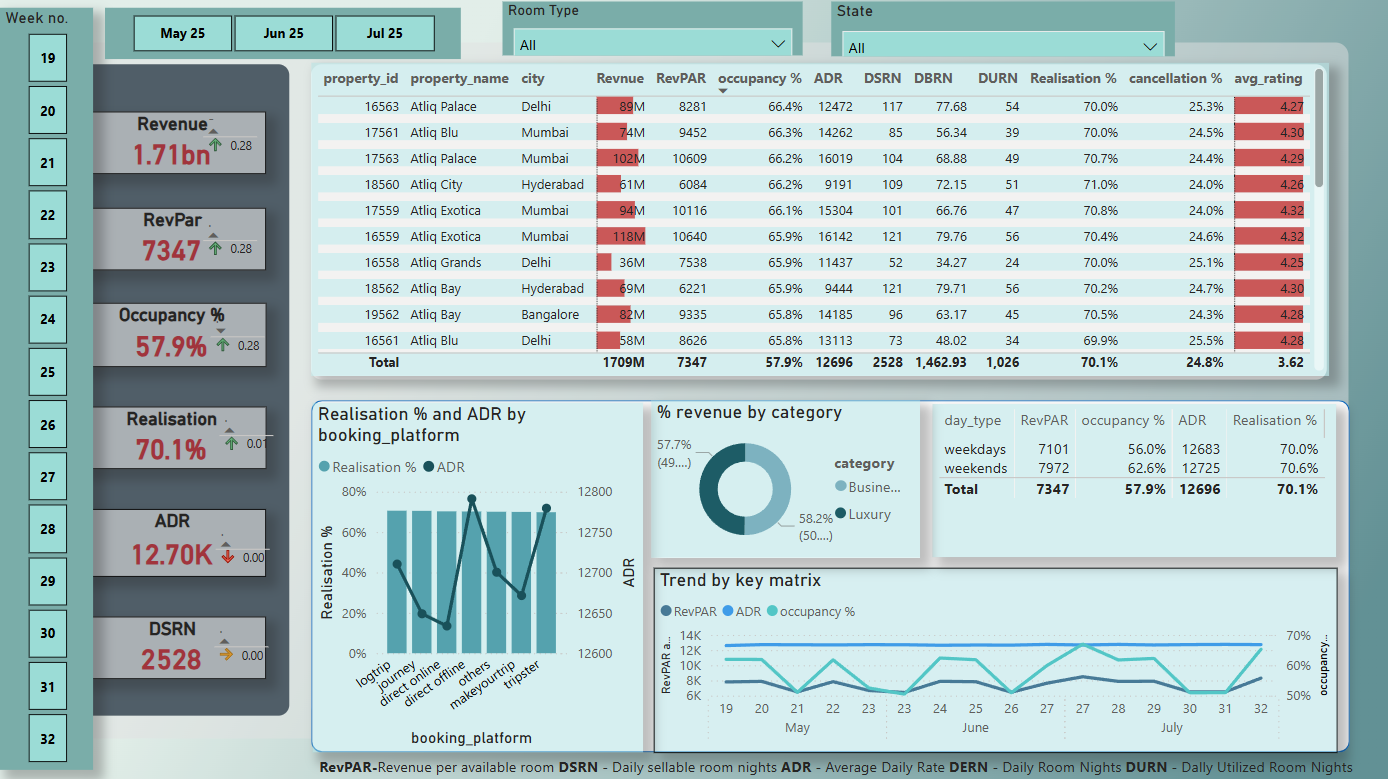

The dashboard page shown, as its layout file describes it:
{"tool":"powerbi","page":{"name":" Report","canvas":[1280,720],"ordinal":0},"visuals":[{"type":"shape","box":[286.2,368.8,955,323.8],"z":0},{"type":"card","title":"Revenue","fields":{"Values":["key_measures.Revnue"]},"box":[75.5,103.5,168.9,57.9],"z":1000},{"type":"card","title":"RevPar","fields":{"Values":["key_measures.RevPAR"]},"box":[75.5,191.6,168.9,57.9],"z":2000},{"type":"card","title":"DSRN","fields":{"Values":["key_measures.DSRN"]},"box":[75.5,568,168.9,57.9],"z":3000},{"type":"card","title":"ADR","fields":{"Values":["key_measures.ADR"]},"box":[75.5,469.1,168.9,62.7],"z":4000},{"type":"card","title":"Occupancy %","fields":{"Values":["key_measures.occupancy %"]},"box":[74.3,279.7,170.1,59.1],"z":5000},{"type":"card","title":"Realisation","fields":{"Values":["key_measures.Realisation %"]},"box":[74.3,375,170.1,57.9],"z":6000},{"type":"tableEx","fields":{"Values":["dim_hotels.property_id","dim_hotels.property_name","dim_hotels.city","key_measures.Revnue","key_measures.RevPAR","key_measures.occupancy %","key_measures.ADR","key_measures.DSRN","key_measures.DBRN","key_measures.DURN","key_measures.Realisation %","key_measures.cancellation %"]},"box":[285.9,59.1,936.2,288.3],"z":7000},{"type":"slicer","title":"     Week no.","fields":{"Values":["dim_date.WN"]},"box":[0,8.4,85.7,700.9],"z":8000},{"type":"slicer","fields":{"Values":["dim_date.mmm yy"]},"box":[96.5,8.4,326.9,47.1],"z":9000},{"type":"lineChart","title":"Trend by key matrix","fields":{"Y":["key_measures.RevPAR","key_measures.ADR"],"Y2":["key_measures.occupancy %"],"Category":["dim_date.mmm yy.Variation.Date Hierarchy.Month","dim_date.WN"]},"box":[601.2,522.5,628.8,170],"z":10000},{"type":"lineStackedColumnComboChart","fields":{"Category":["fact_booking.booking_platform"],"Y":["key_measures.Realisation %"],"Y2":["key_measures.ADR"]},"box":[287.5,371.2,303.8,321.2],"z":11000},{"type":"tableEx","fields":{"Values":["dim_date.day_type","key_measures.RevPAR","key_measures.occupancy %","key_measures.ADR","key_measures.Realisation %"]},"box":[857,372.8,371.6,141.2],"z":12000},{"type":"slicer","title":"State","fields":{"Values":["dim_hotels.city"]},"box":[764.9,2.4,316.1,50.7],"z":13000},{"type":"slicer","title":"Room Type","fields":{"Values":["dim_rooms.room_class"]},"box":[462.1,2.4,276.3,49.5],"z":14000},{"type":"tableEx","fields":{"Values":["key_measures.Revanue WoW change %"]},"box":[181,195.4,66.4,54.3],"z":15000},{"type":"tableEx","fields":{"Values":["key_measures.Revanue WoW change %"]},"box":[180.5,99.9,65.1,44.6],"z":16000},{"type":"tableEx","fields":{"Values":["key_measures.ADR WoW change %"]},"box":[191.8,479,90.5,43.4],"z":17000},{"type":"tableEx","fields":{"Values":["key_measures.DSRN WoW change %"]},"box":[190.6,569.4,90.5,43.4],"z":18000},{"type":"tableEx","fields":{"Values":["key_measures.Occupancy WoW change %"]},"box":[187.7,284.5,90.5,49.5],"z":19000},{"type":"tableEx","fields":{"Values":["key_measures.Realisation WoW change %"]},"box":[195,375,83.2,43.4],"z":20000},{"type":"donutChart","title":"% revenue by category","fields":{"Y":["key_measures.occupancy %"],"Category":["dim_hotels.category"]},"box":[598.8,369.2,247.3,144.8],"z":21000},{"type":"textbox","box":[288.8,692.5,991.2,27.5],"z":22000}]}

Visuals, with their boxes in screenshot pixels (x1, y1, x2, y2), scaled from the page's 1280x720 canvas onto the 1388x779 screenshot:
shape: {"left": 310, "top": 399, "right": 1346, "bottom": 749}
"Revenue" card: {"left": 82, "top": 112, "right": 265, "bottom": 175}
"RevPar" card: {"left": 82, "top": 207, "right": 265, "bottom": 270}
"DSRN" card: {"left": 82, "top": 615, "right": 265, "bottom": 677}
"ADR" card: {"left": 82, "top": 508, "right": 265, "bottom": 575}
"Occupancy %" card: {"left": 81, "top": 303, "right": 265, "bottom": 367}
"Realisation" card: {"left": 81, "top": 406, "right": 265, "bottom": 468}
tableEx - dim_hotels.property_id x dim_hotels.property_name: {"left": 310, "top": 64, "right": 1325, "bottom": 376}
"     Week no." slicer: {"left": 0, "top": 9, "right": 93, "bottom": 767}
slicer - dim_date.mmm yy: {"left": 105, "top": 9, "right": 459, "bottom": 60}
"Trend by key matrix" lineChart: {"left": 652, "top": 565, "right": 1334, "bottom": 749}
lineStackedColumnComboChart - fact_booking.booking_platform x key_measures.Realisation %: {"left": 312, "top": 402, "right": 641, "bottom": 749}
tableEx - dim_date.day_type x key_measures.RevPAR: {"left": 929, "top": 403, "right": 1332, "bottom": 556}
"State" slicer: {"left": 829, "top": 3, "right": 1172, "bottom": 57}
"Room Type" slicer: {"left": 501, "top": 3, "right": 801, "bottom": 56}
tableEx - key_measures.Revanue WoW change %: {"left": 196, "top": 211, "right": 268, "bottom": 270}
tableEx - key_measures.Revanue WoW change %: {"left": 196, "top": 108, "right": 266, "bottom": 156}
tableEx - key_measures.ADR WoW change %: {"left": 208, "top": 518, "right": 306, "bottom": 565}
tableEx - key_measures.DSRN WoW change %: {"left": 207, "top": 616, "right": 305, "bottom": 663}
tableEx - key_measures.Occupancy WoW change %: {"left": 204, "top": 308, "right": 302, "bottom": 361}
tableEx - key_measures.Realisation WoW change %: {"left": 211, "top": 406, "right": 302, "bottom": 453}
"% revenue by category" donutChart: {"left": 649, "top": 399, "right": 917, "bottom": 556}
textbox: {"left": 313, "top": 749, "right": 1387, "bottom": 778}
